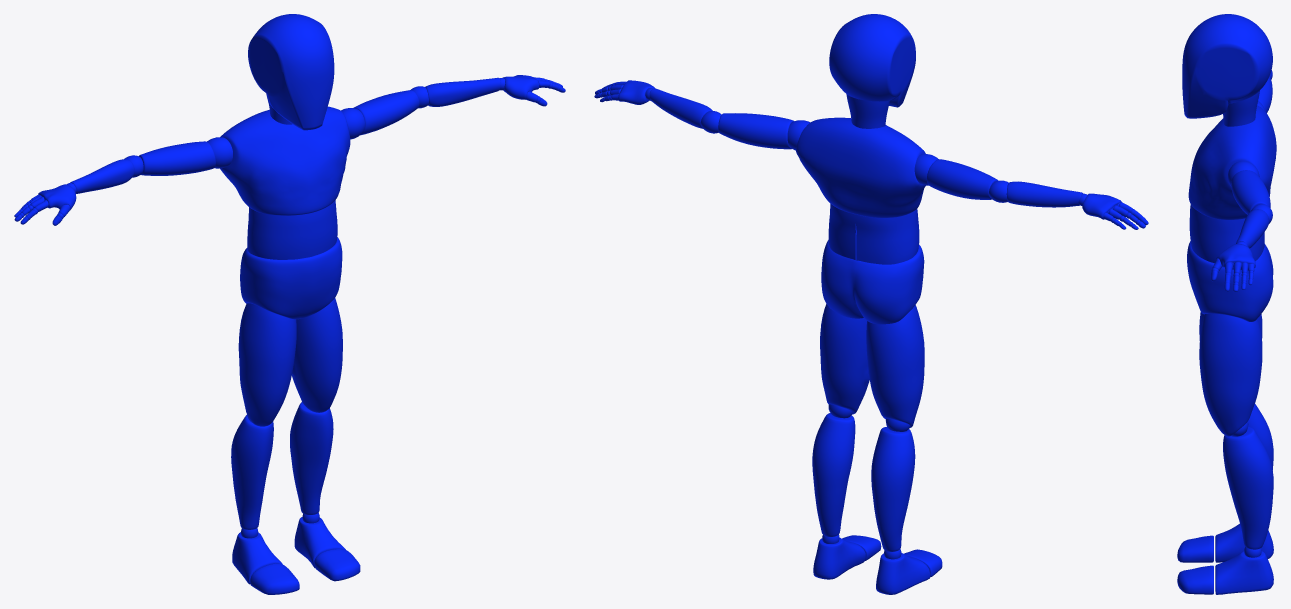
File: adjustable_manequin_shape.fbx
3 views of the same model, side by side, from view 1: azimuth 30°, elevation 25°; view 2: azimuth 150°, elevation 25°; view 3: azimuth 270°, elevation 25° (orthographic).
Parts seen in each view (by area): view 1: Adjustable Mannequin Mesh.001; view 2: Adjustable Mannequin Mesh.001; view 3: Adjustable Mannequin Mesh.001.
Part boxes in pixels (box(x1,y1,x2,y2)): Adjustable Mannequin Mesh.001: box(14, 14, 565, 594); Adjustable Mannequin Mesh.001: box(594, 14, 1148, 594); Adjustable Mannequin Mesh.001: box(1177, 14, 1276, 594).
Bounding box in the file's own units: 176 × 27.56 × 169.
